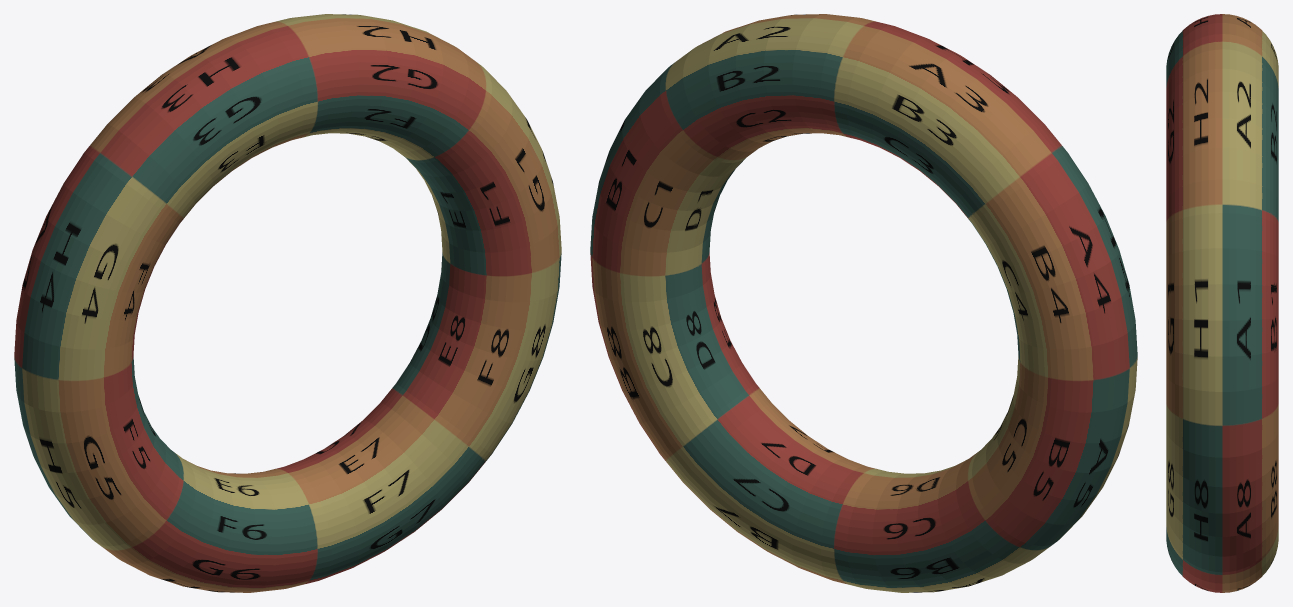
File: texture_torus_R14_r10.glb
The picture shows the model from 3 angles, left to right: view 1: azimuth 30°, elevation 25°; view 2: azimuth 150°, elevation 25°; view 3: azimuth 270°, elevation 25°; orthographic projection. The views are drawn at different scales.
Parts seen in each view (by area): view 1: world; view 2: world; view 3: world.
Boxes of the visible parts, x1,y1,x2,y2 form: world: [14, 14, 561, 592]; world: [590, 14, 1137, 592]; world: [1166, 14, 1278, 592].
Bounding box in the file's own units: 24 × 23.95 × 4.66.
1 material, 1 textured.
